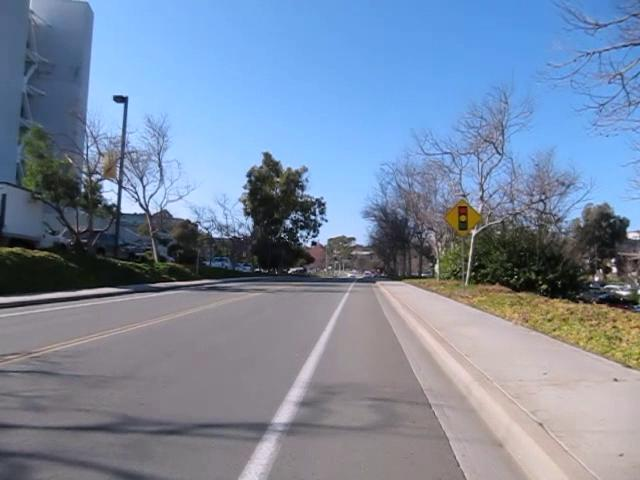signalAhead: (441, 197, 482, 238)
